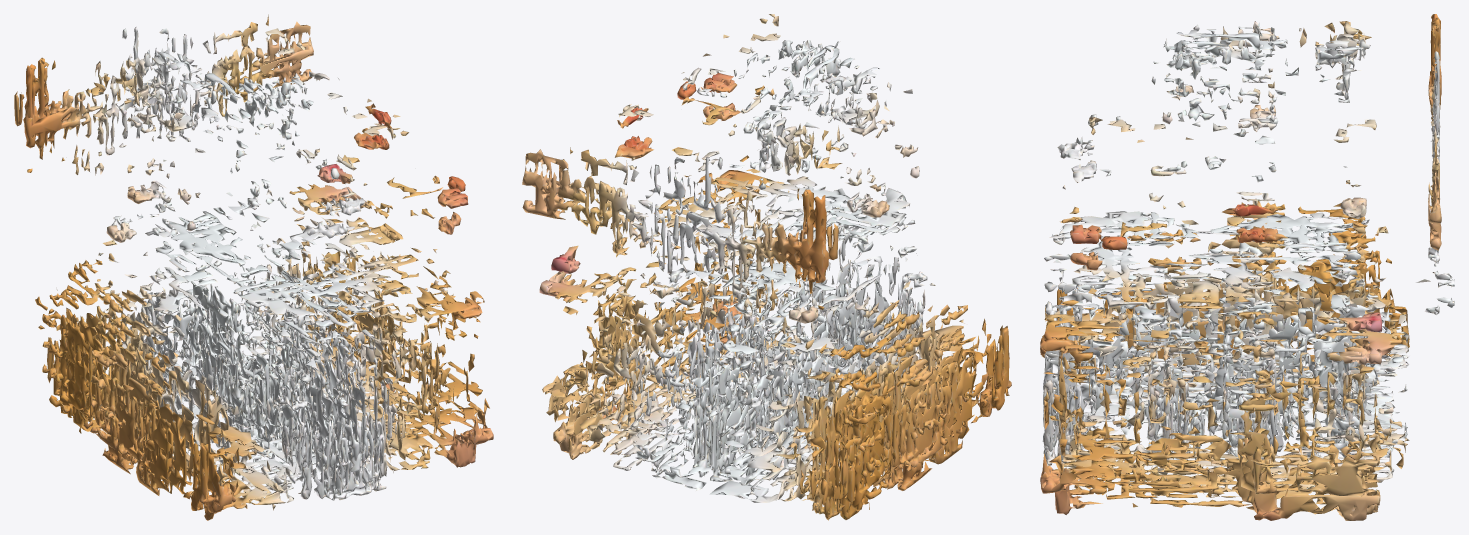
File: treasure_chest.glb
3 renders of one model, left to right at view 1: azimuth 30°, elevation 25°; view 2: azimuth 150°, elevation 25°; view 3: azimuth 270°, elevation 25°, orthographic. The views are drawn at different scales.
Visible parts, largest first — view 1: world; view 2: world; view 3: world.
Boxes of the visible parts, x1=… form: world: x1=14, y1=14, x2=493, y2=520; world: x1=522, y1=14, x2=1011, y2=520; world: x1=1040, y1=14, x2=1454, y2=520.
Bounding box in the file's own units: 0.859 × 0.9068 × 0.8672.
Materials: 1 (1 with a texture image).
